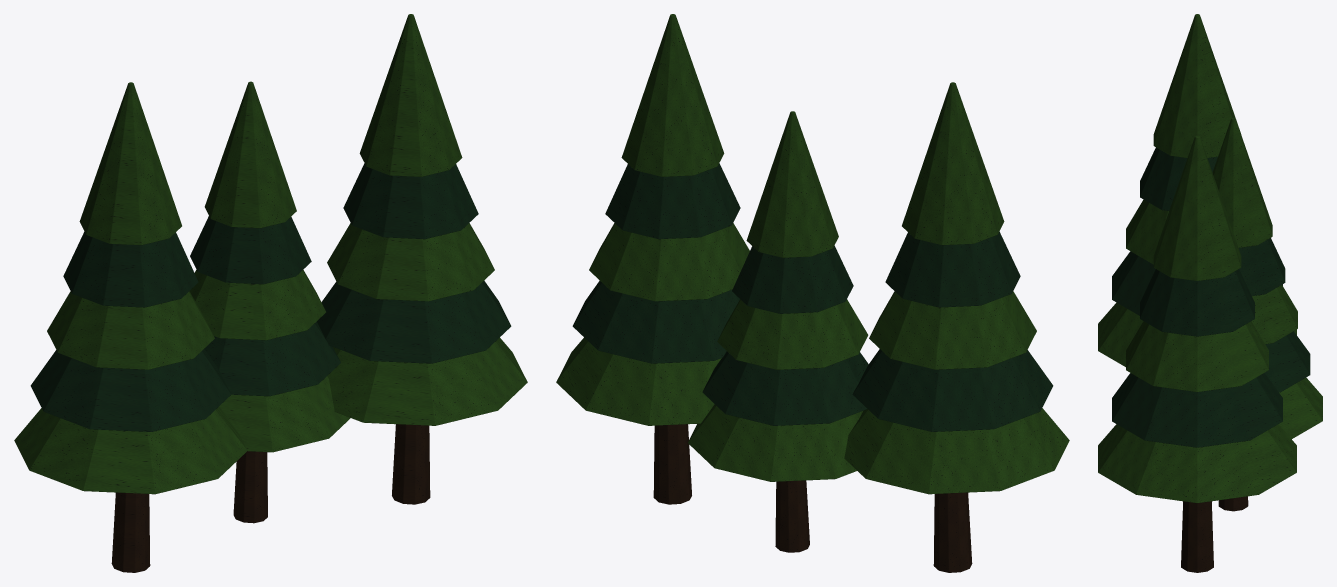
The model's file is PROP-196A5C36326A_lod1.glb.
The picture shows the model from 3 angles, left to right: view 1: azimuth 30°, elevation 25°; view 2: azimuth 150°, elevation 25°; view 3: azimuth 270°, elevation 25°; orthographic projection. The views are drawn at different scales.
Visible parts, largest first — view 1: layered_conifer_crown.020, layered_conifer_crown.021, trunk.011; view 2: layered_conifer_crown.020, layered_conifer_crown.021, trunk.011; view 3: layered_conifer_crown.020, layered_conifer_crown.021, trunk.011.
Part boxes in pixels (x1,y1,x2,y2): layered_conifer_crown.020: (14,14,527,494); layered_conifer_crown.021: (30,163,511,431); trunk.011: (111,424,430,572); layered_conifer_crown.020: (556,14,1069,494); layered_conifer_crown.021: (572,163,1053,431); trunk.011: (653,424,972,572); layered_conifer_crown.020: (1098,14,1322,503); layered_conifer_crown.021: (1112,147,1310,447); trunk.011: (1181,496,1248,572).
Bounding box in the file's own units: 6.91 × 6.58 × 3.12.
3 materials, 3 textured.
